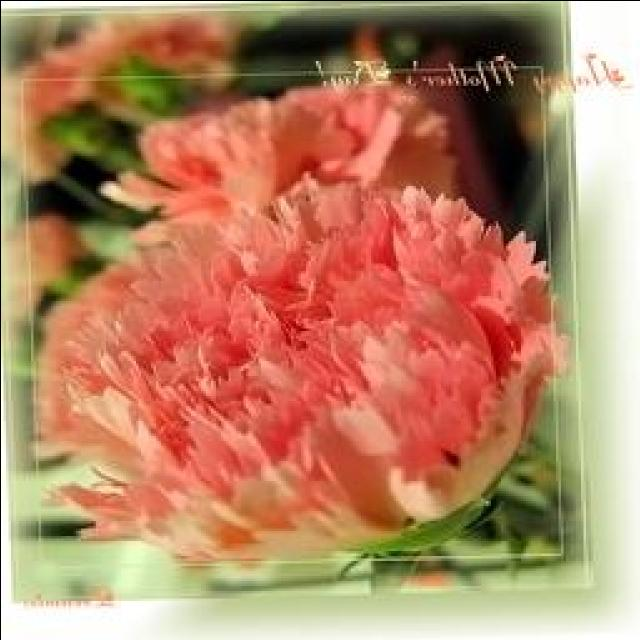carnation: (57, 190, 569, 564)
